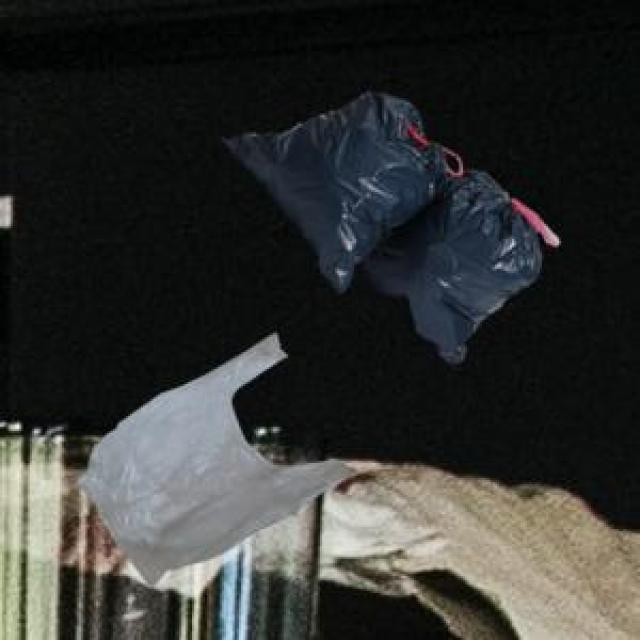miscellaneous trash: (220, 90, 555, 363)
